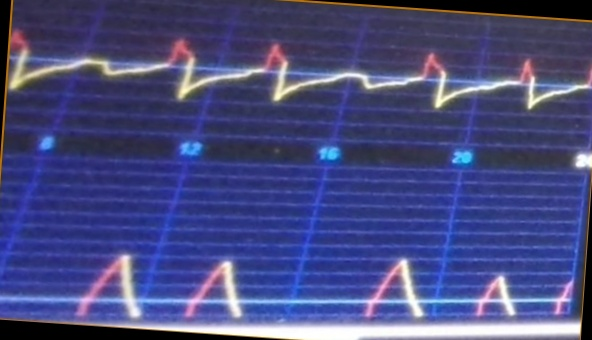Ineffective_effort Flow: (11, 24, 592, 119)
Ineffective_effort Volume: (47, 239, 573, 320)
